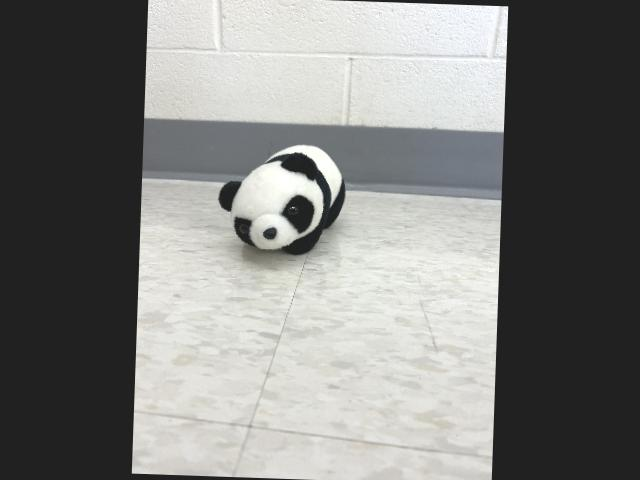panda_plushie: (218, 141, 349, 258)
